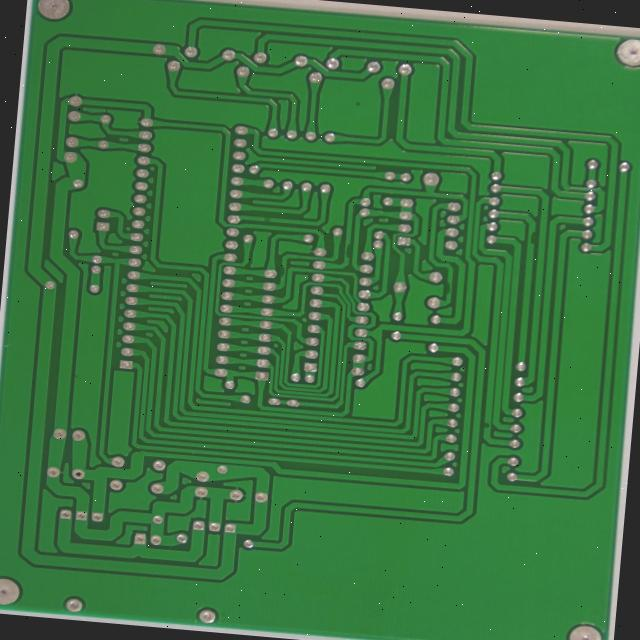mouse_bite: (428, 286, 443, 308), (321, 246, 335, 269), (516, 234, 531, 255), (469, 431, 482, 447), (254, 270, 265, 288)
